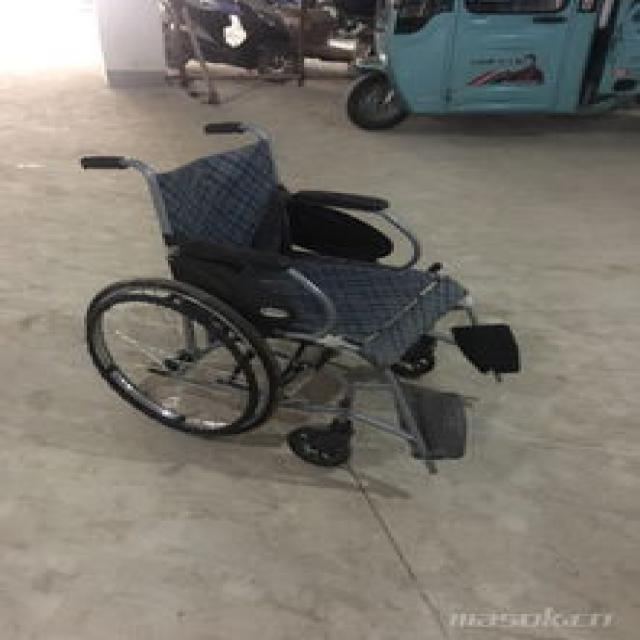wheelchairs: (69, 121, 519, 483)
